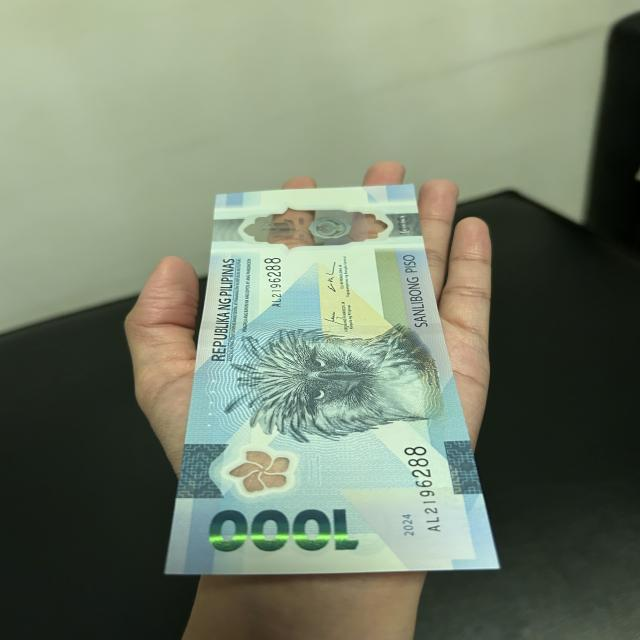clear_window: (231, 203, 414, 257)
eagle: (229, 330, 440, 441)
sampaguita: (225, 447, 295, 492)
